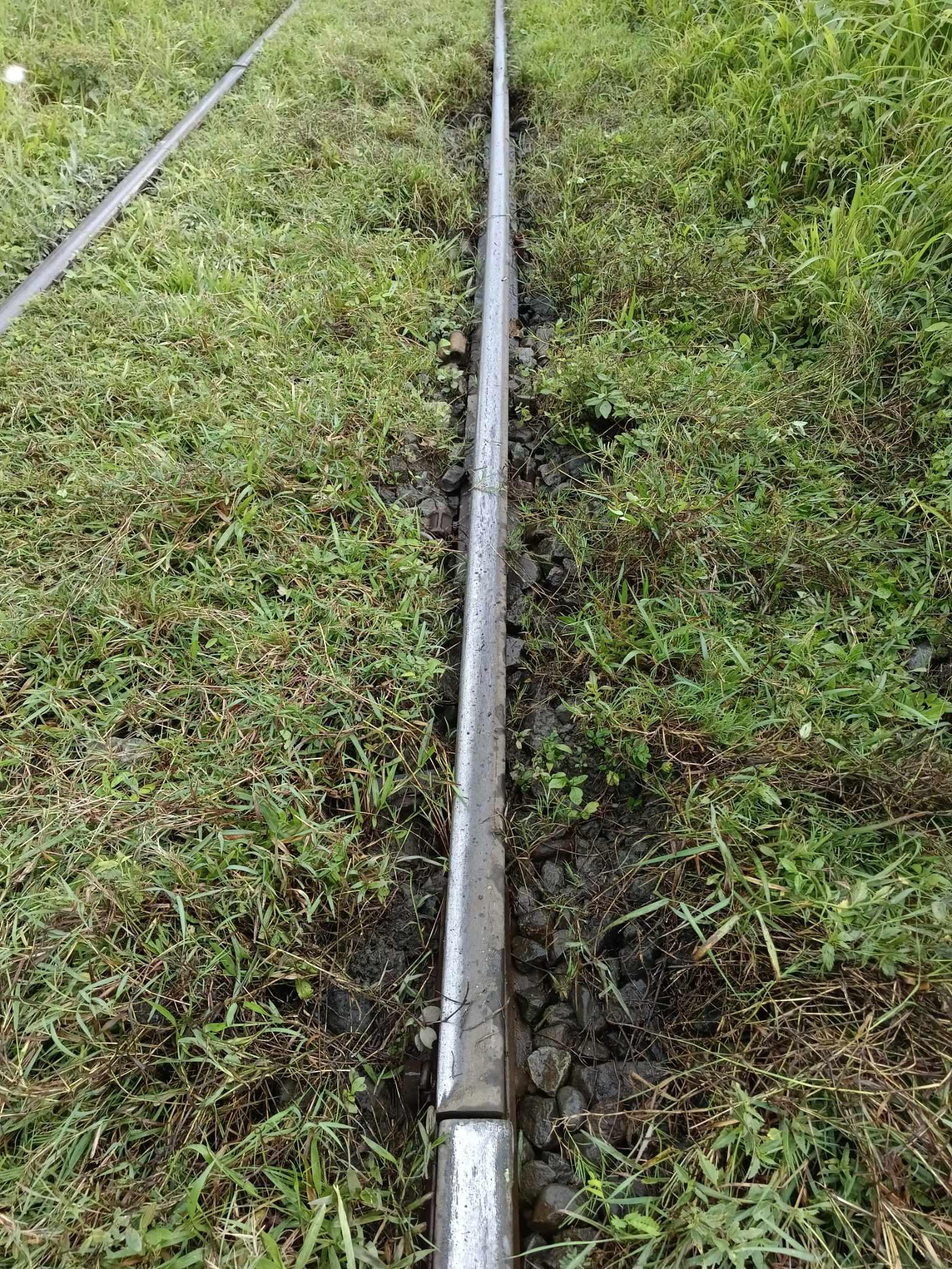railway-gap: (379, 1035, 561, 1201)
